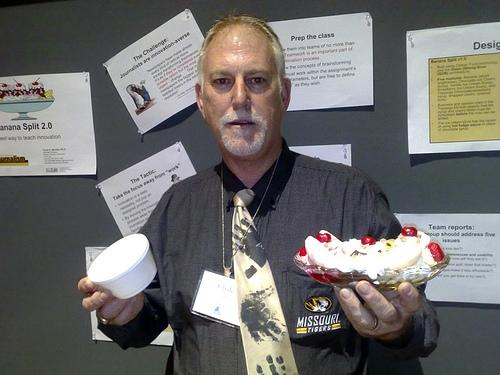banana: (304, 236, 422, 272), (319, 230, 343, 242)
cherry: (428, 242, 444, 262), (401, 226, 418, 236), (316, 233, 332, 243), (360, 236, 376, 245), (300, 245, 306, 256)
strawberry: (428, 242, 444, 261), (324, 272, 343, 284), (310, 273, 326, 283)
